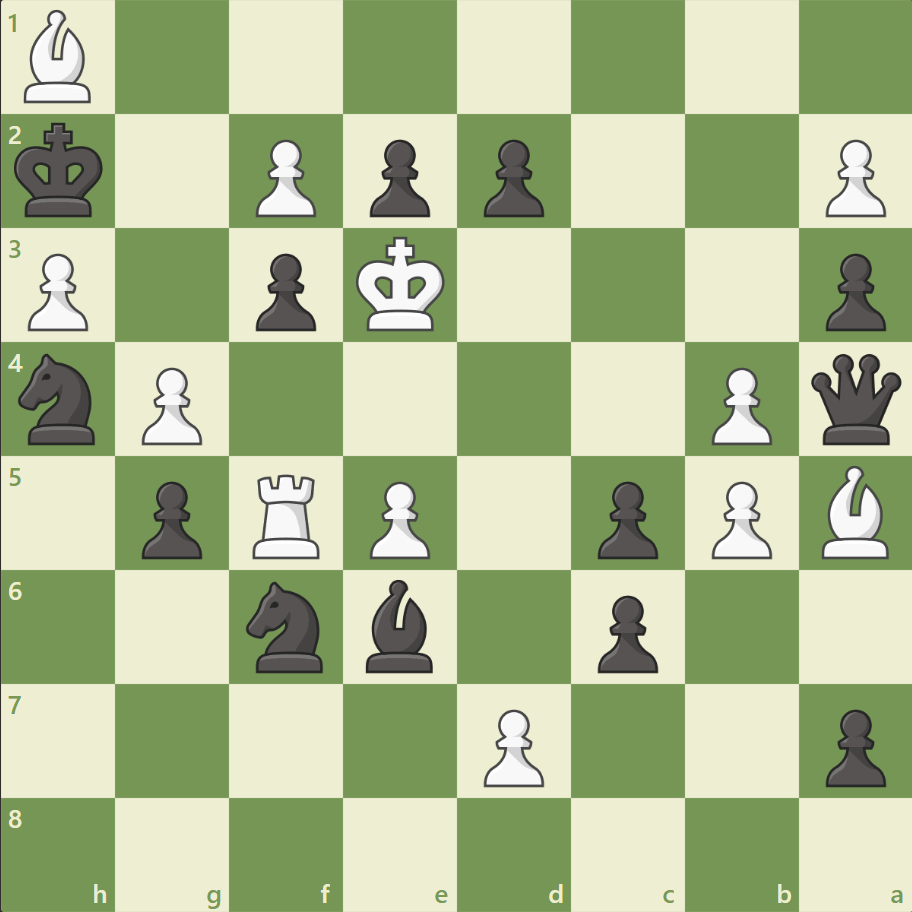B: (812, 460, 896, 563), (17, 6, 101, 109)
K: (351, 231, 451, 339)
P: (474, 700, 549, 791), (701, 473, 776, 564), (701, 359, 776, 450), (133, 359, 208, 450), (20, 246, 95, 337), (247, 132, 322, 223), (361, 473, 435, 564), (815, 132, 889, 223)
R: (246, 466, 329, 563)
b: (358, 574, 442, 676)
k: (11, 117, 111, 225)
n: (238, 575, 335, 677), (11, 348, 108, 450)
p: (133, 473, 208, 564), (247, 246, 322, 337), (474, 132, 549, 223), (815, 700, 889, 791), (588, 586, 662, 677), (588, 473, 662, 564), (815, 246, 889, 337), (361, 132, 435, 223)
q: (805, 349, 904, 449)
